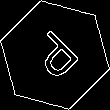P_SE: (24, 24, 86, 86)
